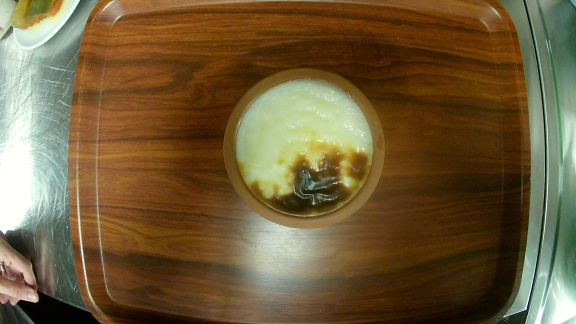sutlac: (222, 67, 387, 229)
